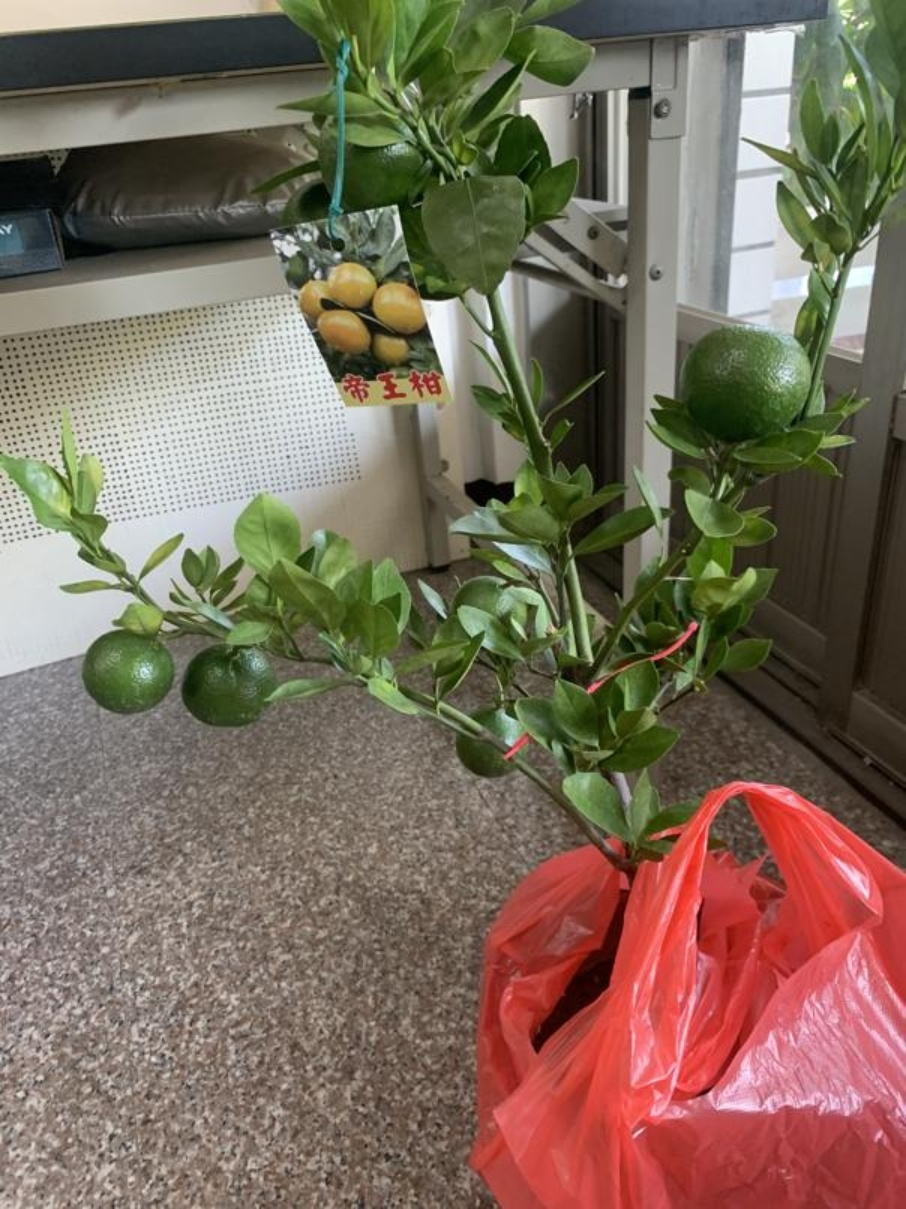Tangerine: (680, 318, 816, 447), (177, 636, 275, 730), (80, 630, 179, 717)
